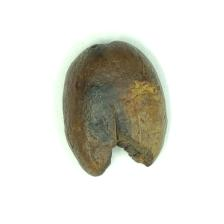NG: (91, 83, 157, 176)
